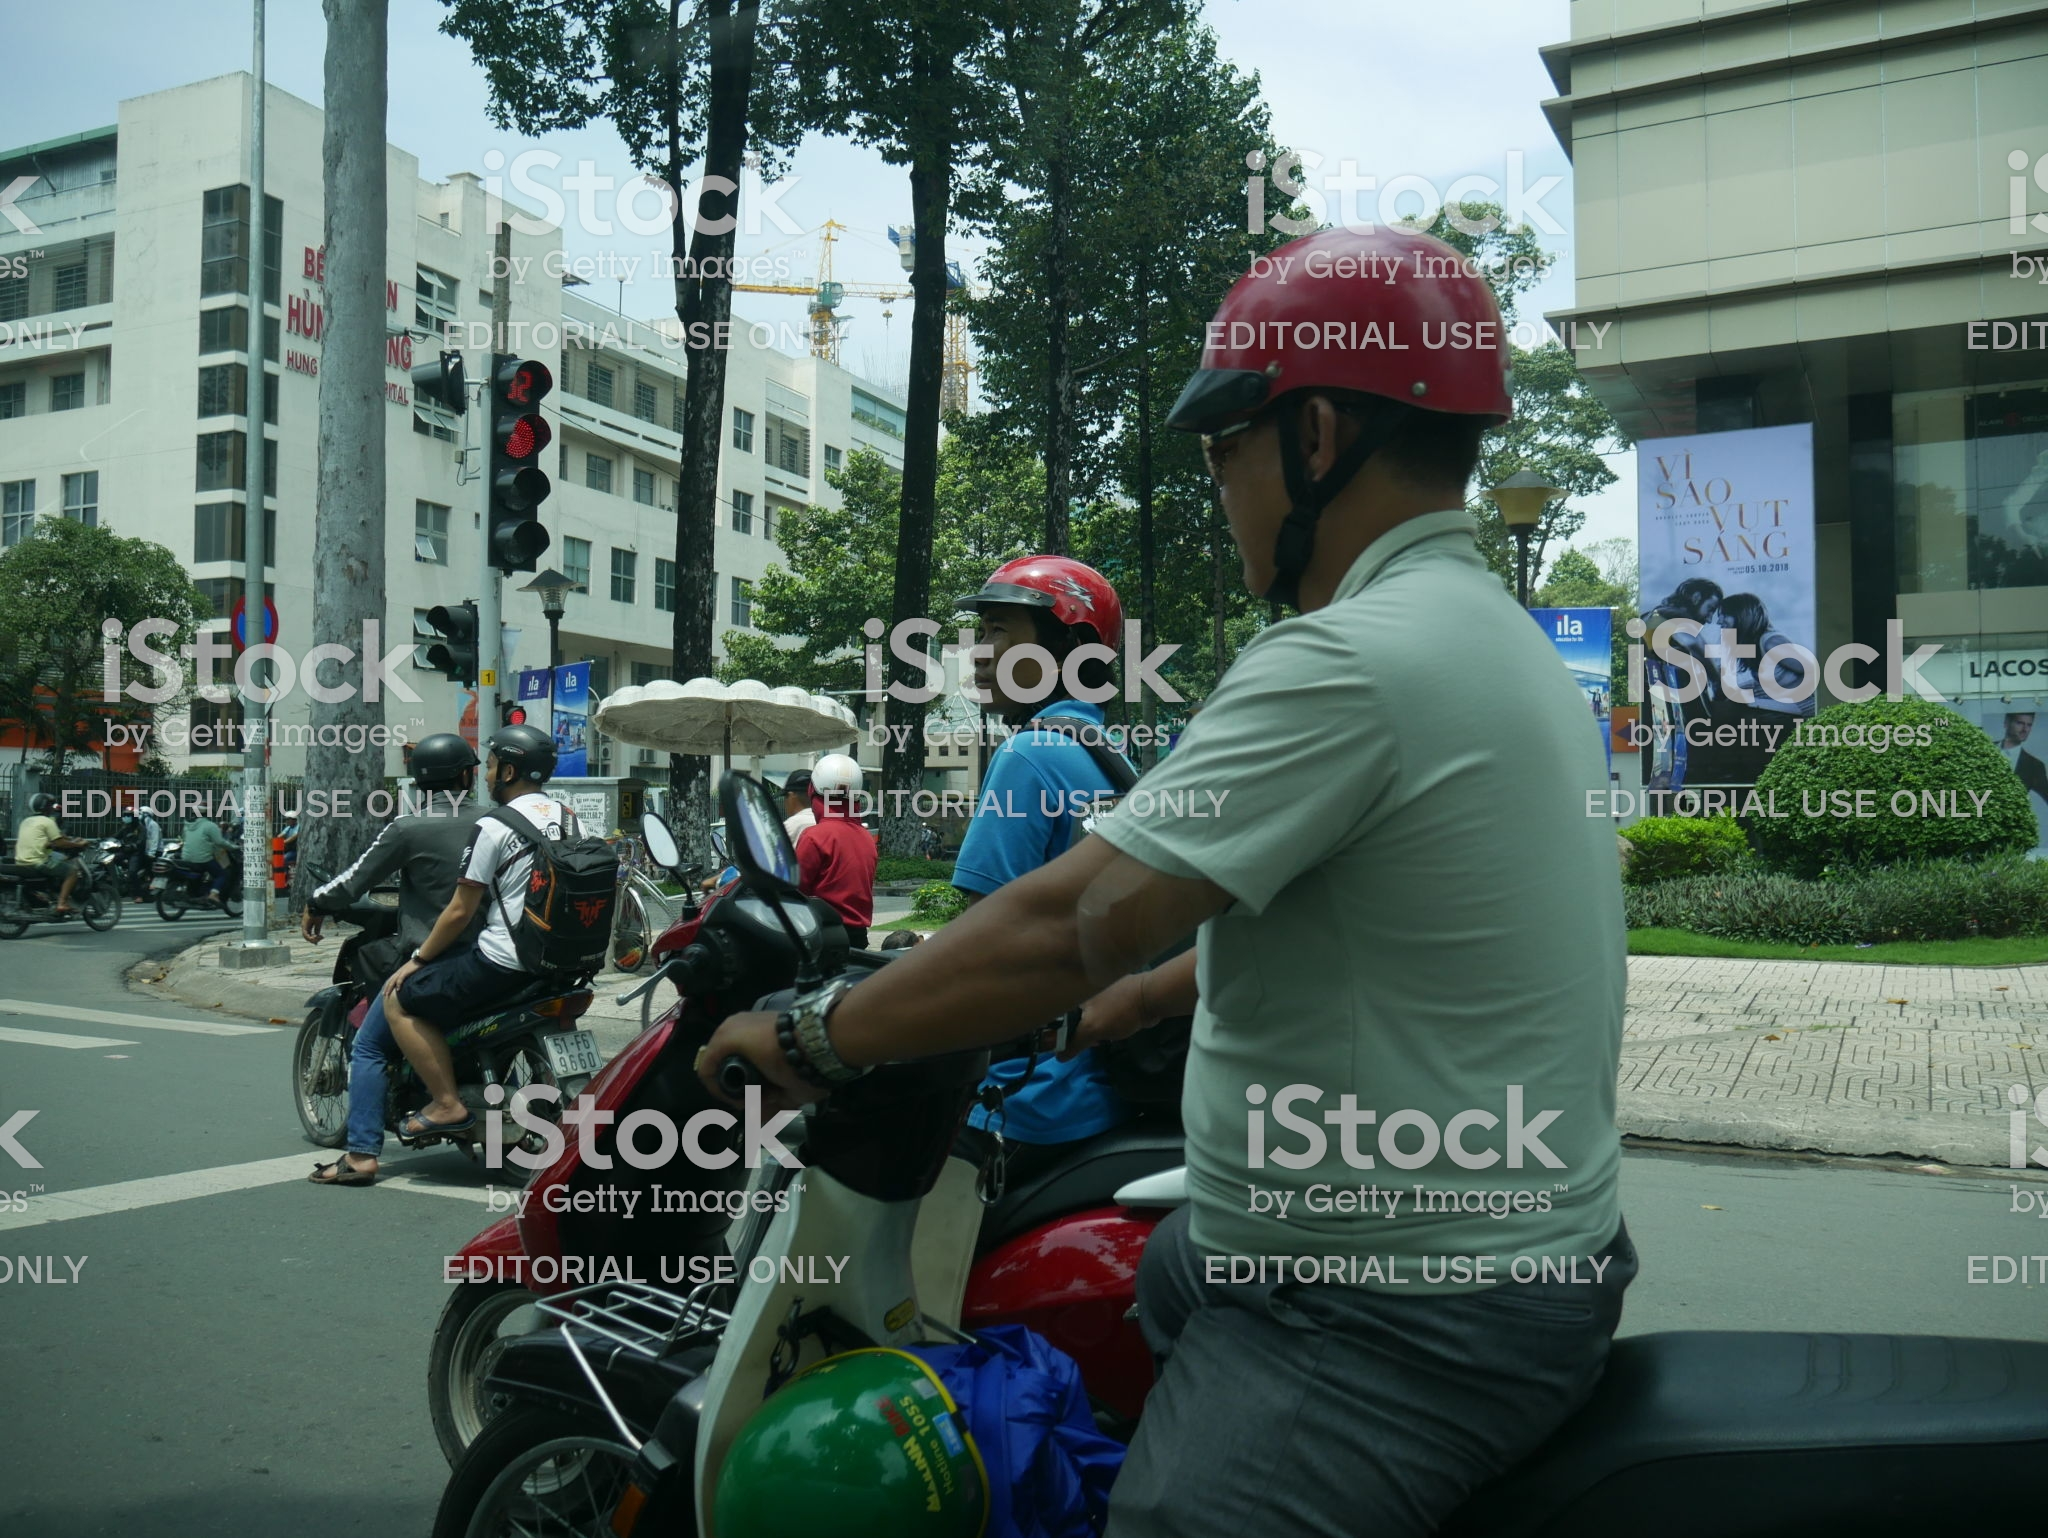helmet: (1207, 181, 1552, 477), (955, 541, 1132, 637)
